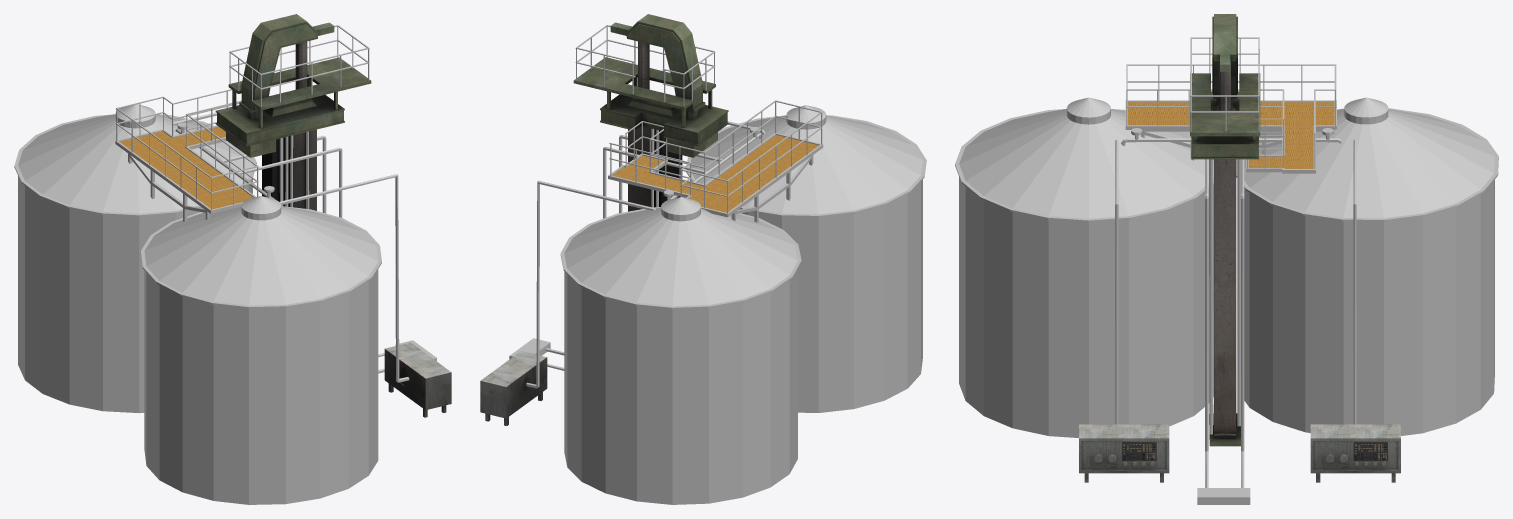
Rendered from Environmet_8.fbx.
3 renders of one model, left to right at view 1: azimuth 30°, elevation 25°; view 2: azimuth 150°, elevation 25°; view 3: azimuth 270°, elevation 25°, orthographic. The views are drawn at different scales.
Parts seen in each view (by area): view 1: Environmet_8; view 2: Environmet_8; view 3: Environmet_8.
Part boxes in pixels (x1,y1,x2,y2): Environmet_8: (14,14,451,504); Environmet_8: (480,14,926,504); Environmet_8: (955,14,1498,504).
Size of the model in its own units: 8.19 by 8.73 by 10.6.
